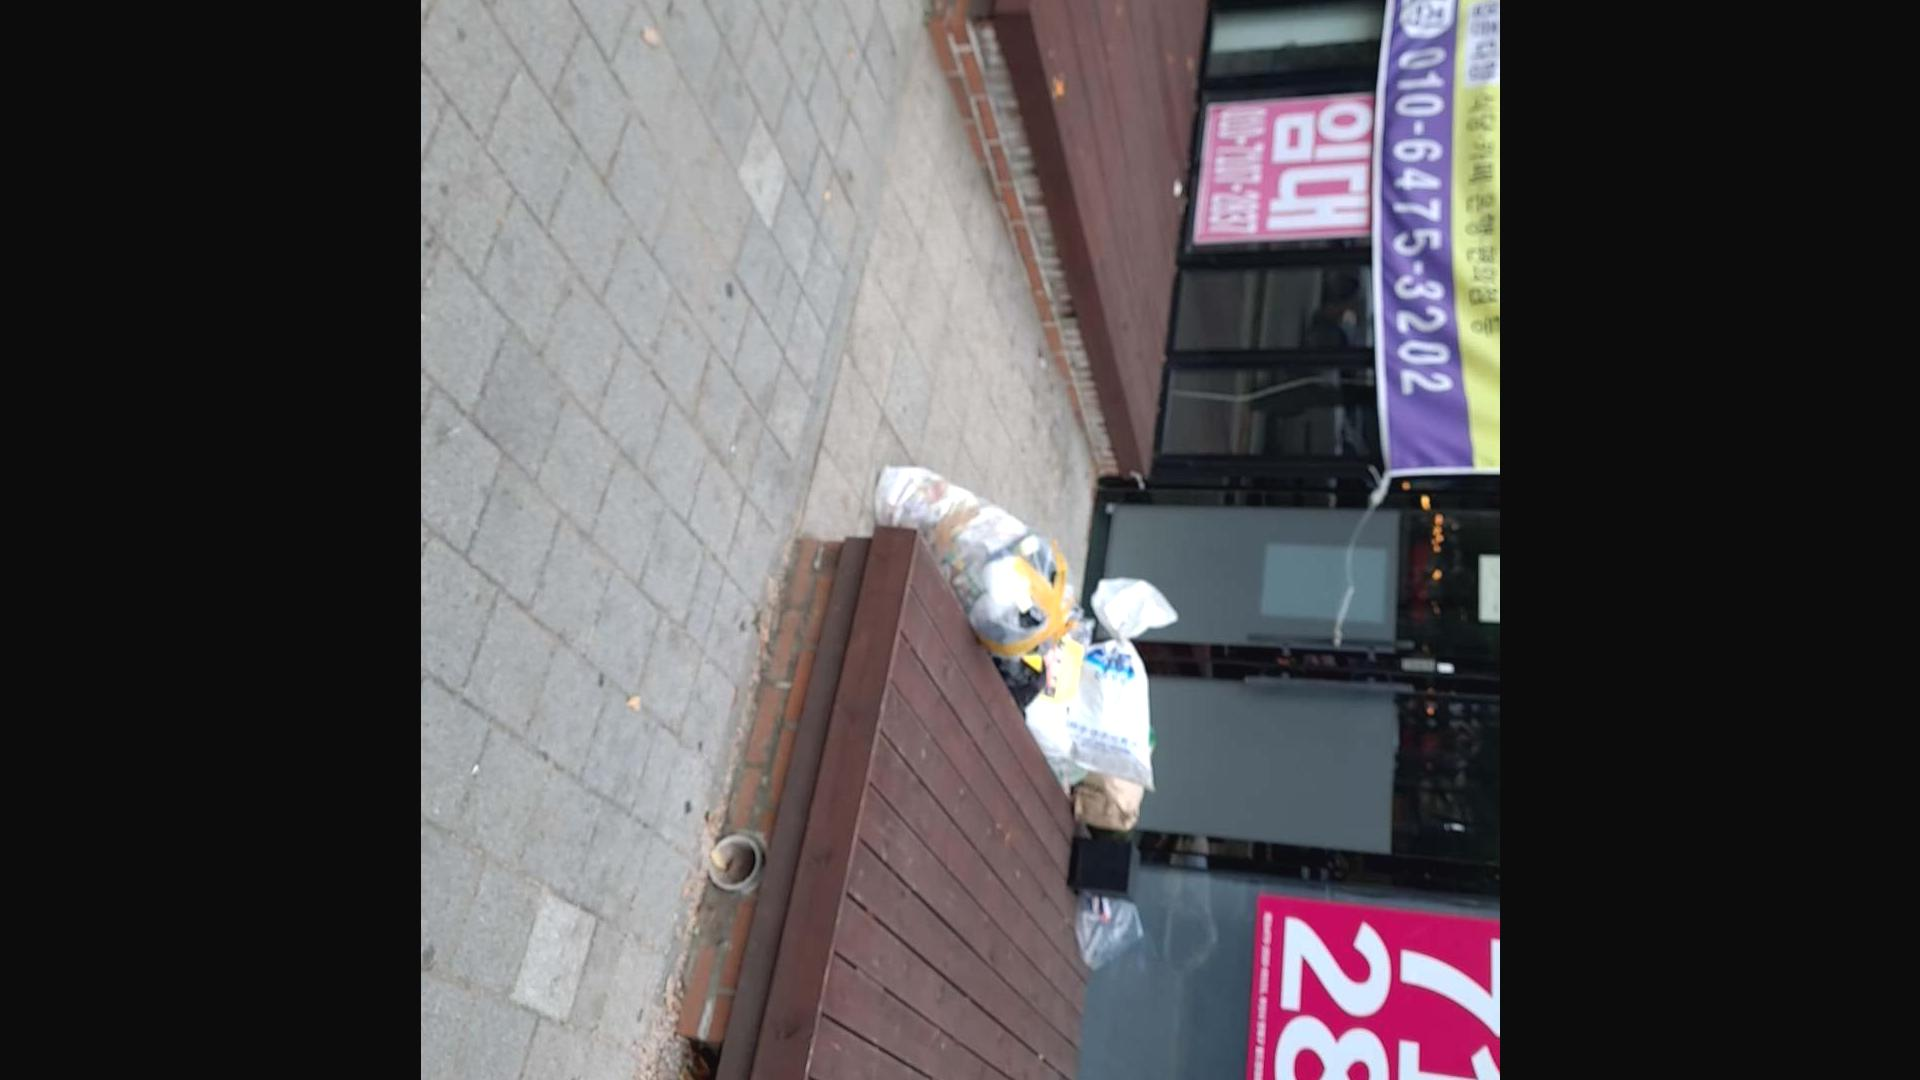white_bag: (851, 459, 1092, 661), (1023, 566, 1184, 791)
